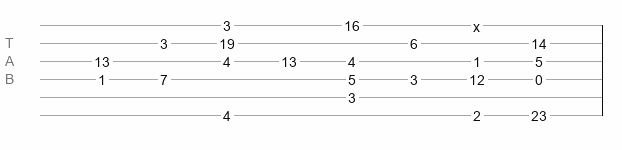0: (535, 72, 543, 82)
1: (98, 72, 106, 82), (473, 54, 481, 64)
12: (469, 72, 485, 82)
13: (94, 54, 110, 64), (281, 54, 297, 64)
14: (531, 36, 547, 46)
16: (344, 18, 360, 28)
19: (219, 36, 235, 46)
2: (473, 108, 481, 118)
23: (531, 108, 547, 118)
3: (160, 36, 168, 46), (223, 18, 231, 28), (348, 90, 356, 100), (410, 72, 418, 82)
4: (223, 54, 231, 64), (223, 108, 231, 118), (348, 54, 356, 64)
5: (348, 72, 356, 82), (535, 54, 543, 64)
6: (410, 36, 418, 46)
7: (160, 72, 168, 82)
x: (473, 19, 480, 27)
